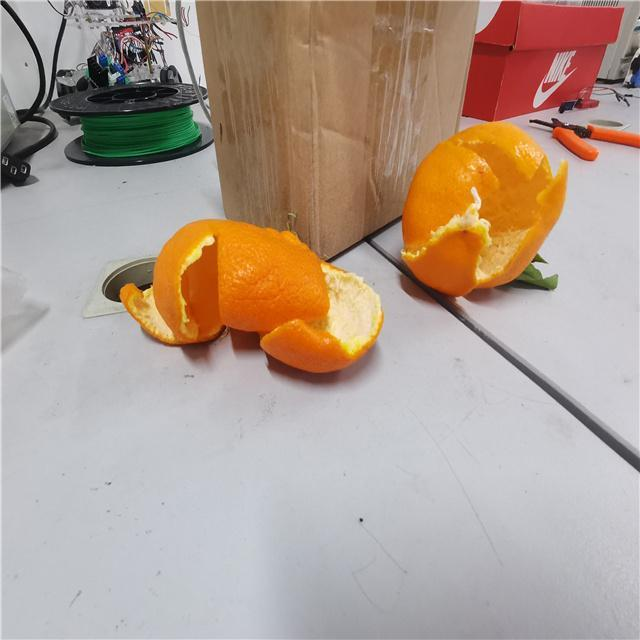orange peel: (114, 220, 400, 398), (395, 97, 573, 317)
